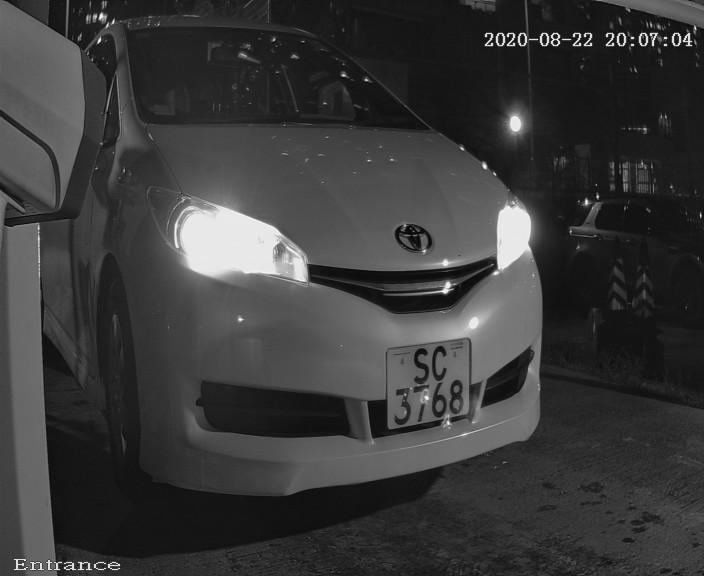License Plate: (378, 325, 488, 445)
